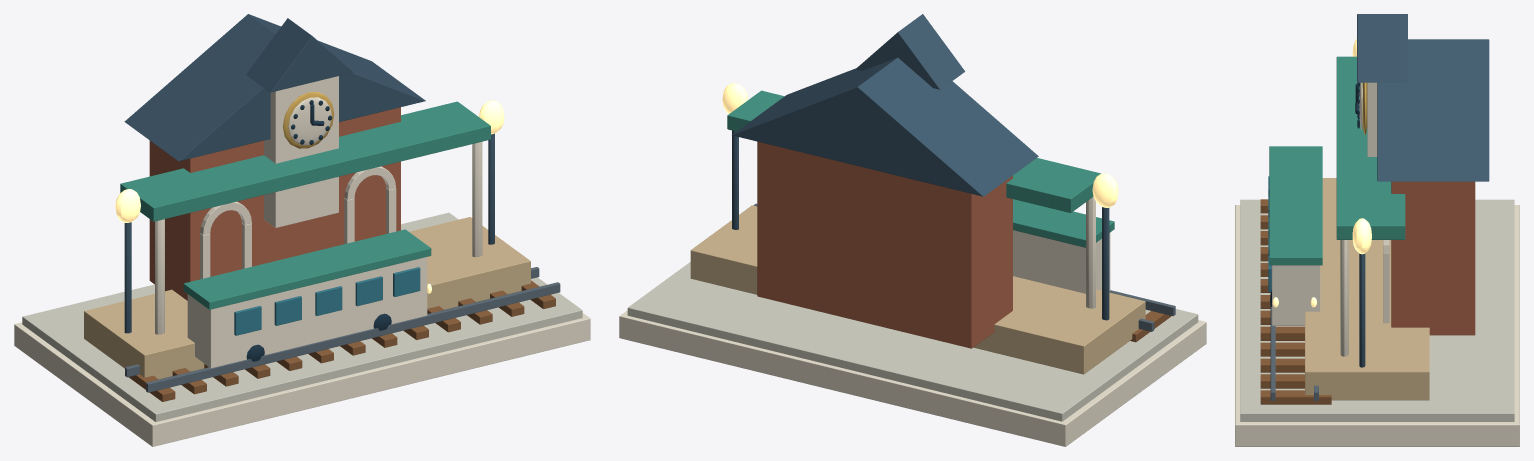
File: transit-station-west.glb
The picture shows the model from 3 angles, left to right: view 1: azimuth 30°, elevation 25°; view 2: azimuth 150°, elevation 25°; view 3: azimuth 270°, elevation 25°; orthographic projection. The views are drawn at different scales.
Parts seen in each view (by area): view 1: Transit Station · West; view 2: Transit Station · West; view 3: Transit Station · West.
Boxes of the visible parts, x1,y1,x2,y2 form: Transit Station · West: (14,14,590,446); Transit Station · West: (619,14,1206,446); Transit Station · West: (1235,14,1519,446).
Bounding box in the file's own units: 1.47 × 1.01 × 0.8064.
